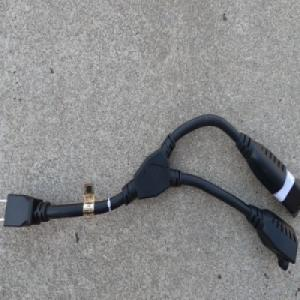Wire: (0, 112, 300, 272)
